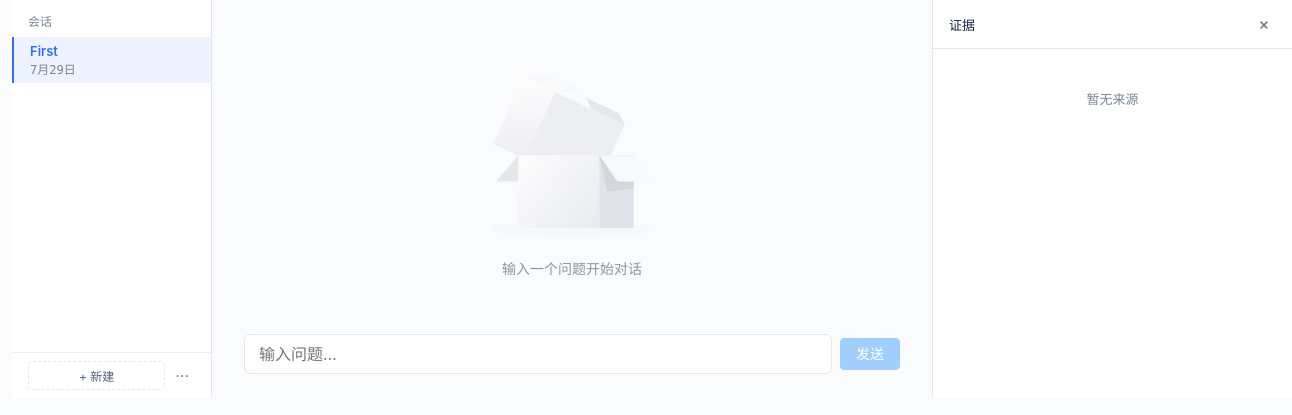
it: ConversationView › shows a failed state when streaming errors
Type "Fail this" into the field named "你的问题". click: {"x": 538, "y": 354}
box: [244, 334, 832, 374]
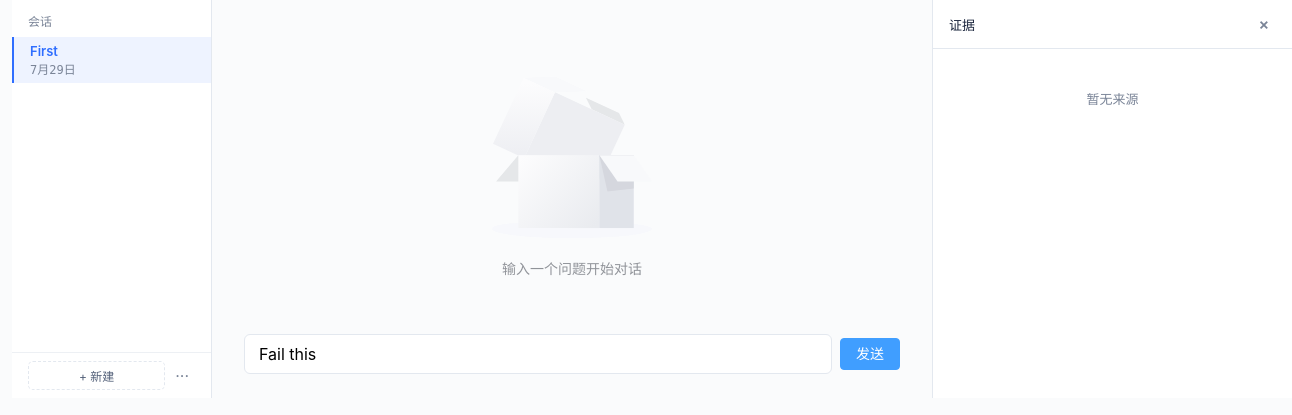
Submit the form with test id "conversation-composer", box [244, 318, 900, 374]
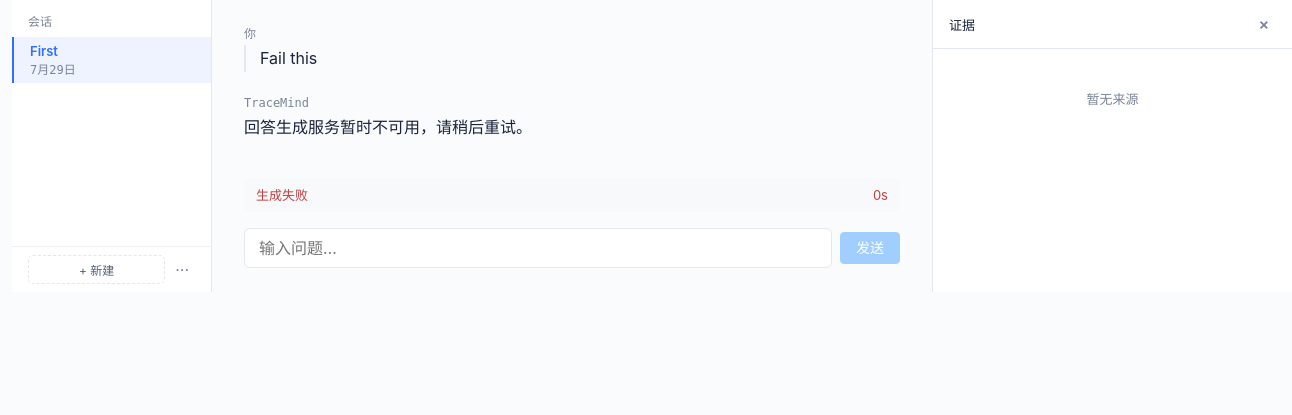
expect the text "生成失败" is shown: met, box [256, 185, 308, 204]
expect the element with class "assistant" is shown: met, box [244, 96, 532, 137]
